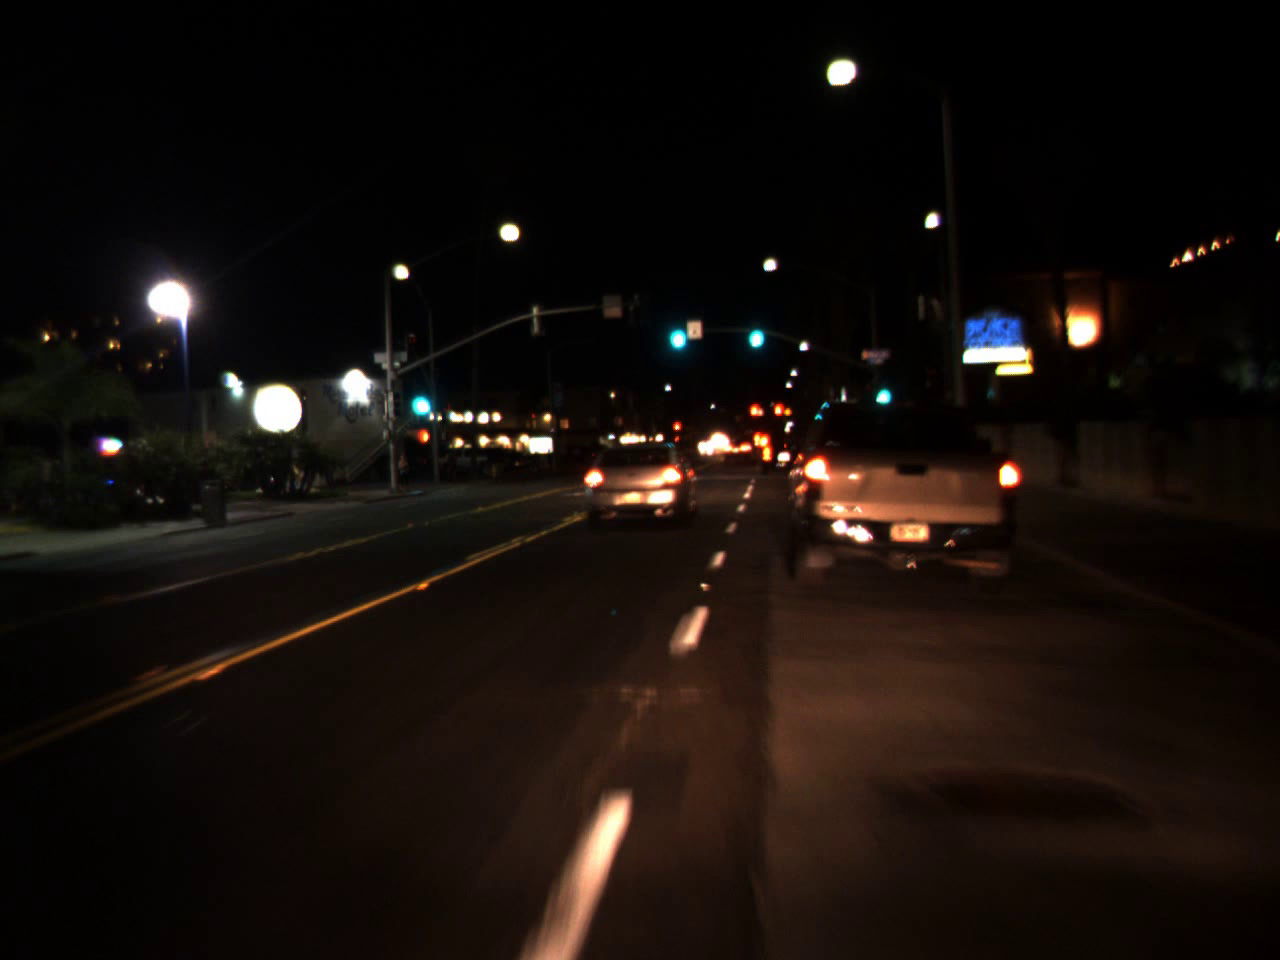go: (404, 370, 434, 424), (662, 303, 690, 357), (743, 307, 766, 355), (870, 373, 893, 409)
